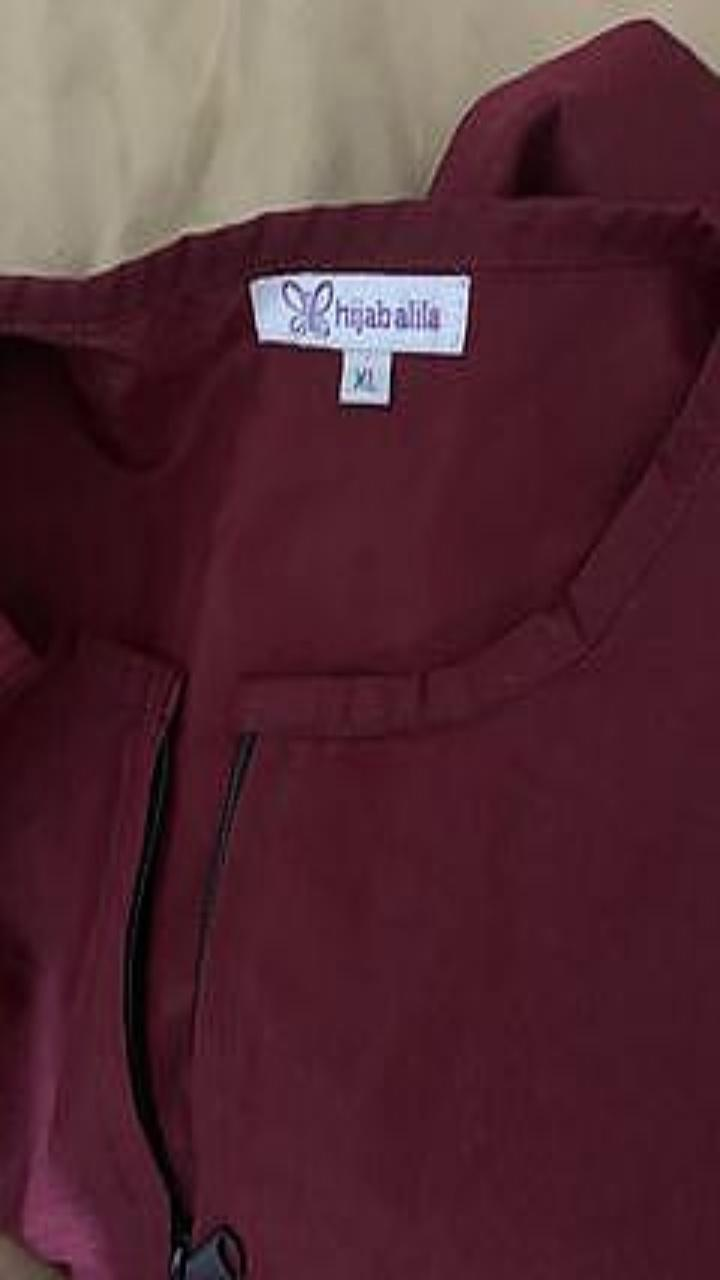T-Shirt: (0, 19, 719, 1279)
